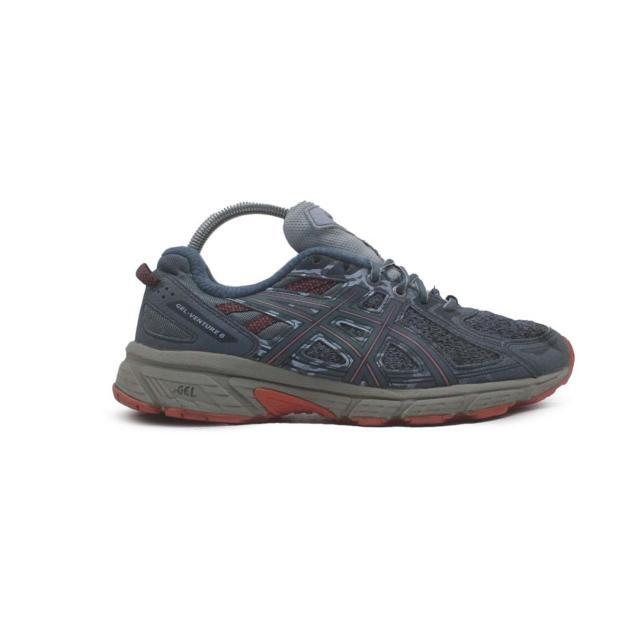heel: (135, 250, 224, 352)
midsole: (111, 339, 576, 427)
uppersole: (202, 198, 573, 383)
